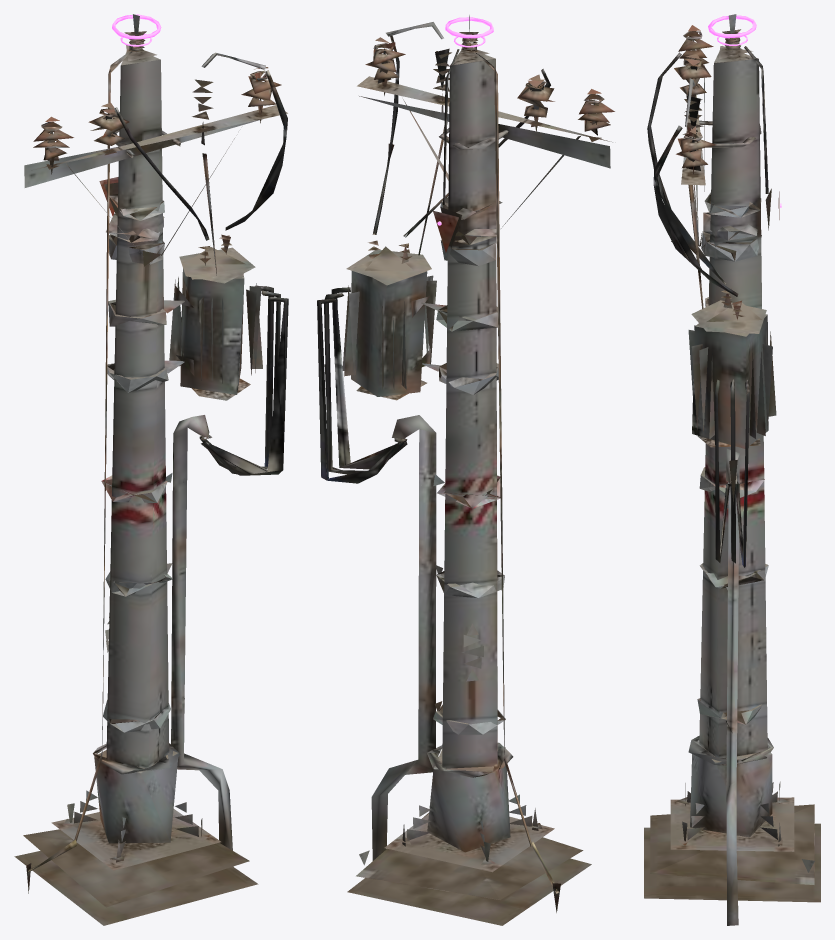
File: poste_energia.glb
3 renders of one model, left to right at view 1: azimuth 30°, elevation 25°; view 2: azimuth 150°, elevation 25°; view 3: azimuth 270°, elevation 25°, orthographic.
Visible parts, largest first — view 1: poste_energia_corpo; view 2: poste_energia_corpo; view 3: poste_energia_corpo, poste_anel_campo.
Boxes of the visible parts, box(x1,y1,x2,y2) form: poste_energia_corpo: box(14, 14, 288, 925); poste_energia_corpo: box(317, 15, 614, 925); poste_energia_corpo: box(644, 14, 820, 925); poste_anel_campo: box(708, 15, 756, 45).
Size of the model in its own units: 0.7521 by 2.32 by 0.43.
Materials: 3 (1 with a texture image).
